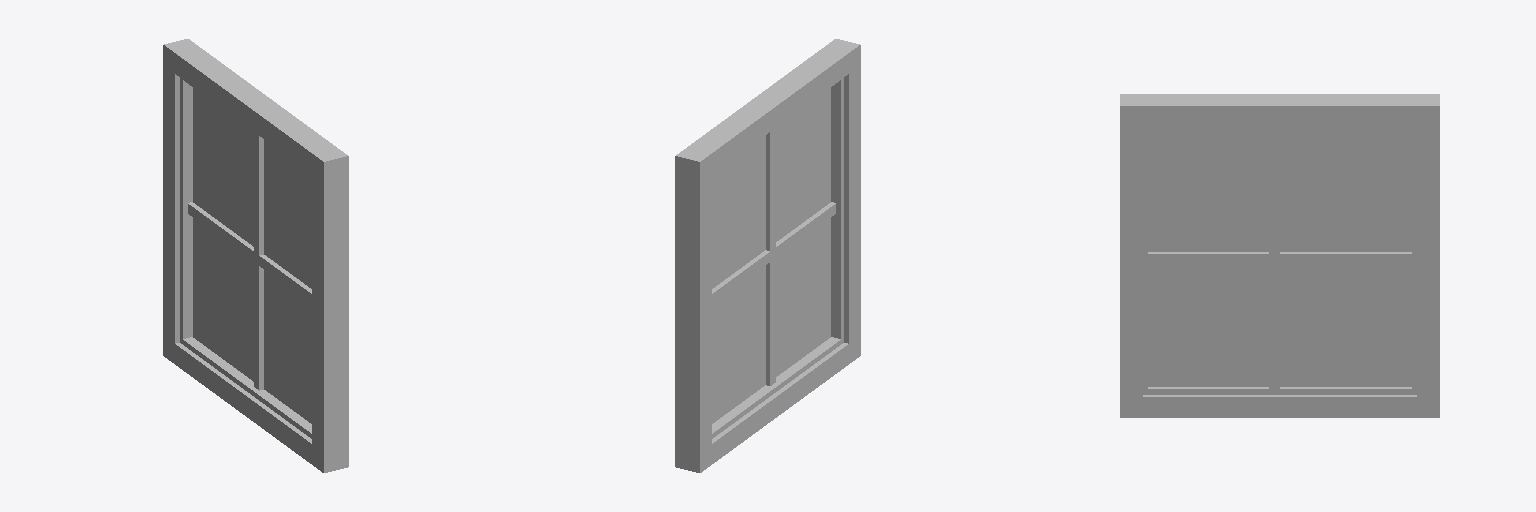
File: modell.obj
3 views of the same model, side by side, from view 1: azimuth 30°, elevation 25°; view 2: azimuth 150°, elevation 25°; view 3: azimuth 270°, elevation 25° (orthographic).
Bounding box in the file's own units: 0.05 × 0.6 × 0.56.